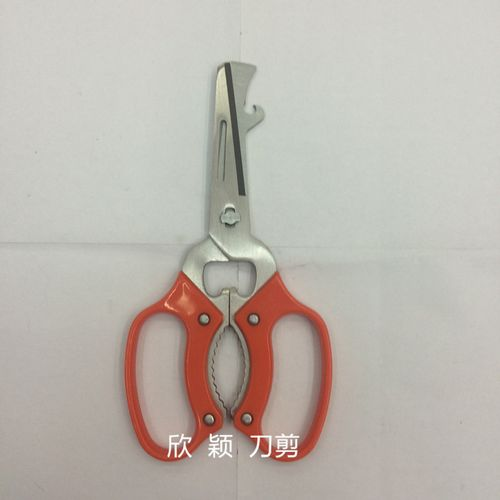scissor: (124, 61, 335, 464)
